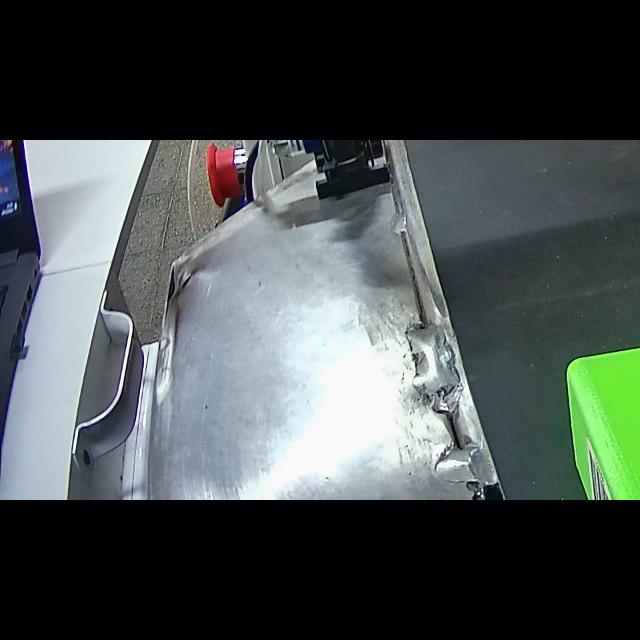greenBox: (558, 320, 640, 500)
